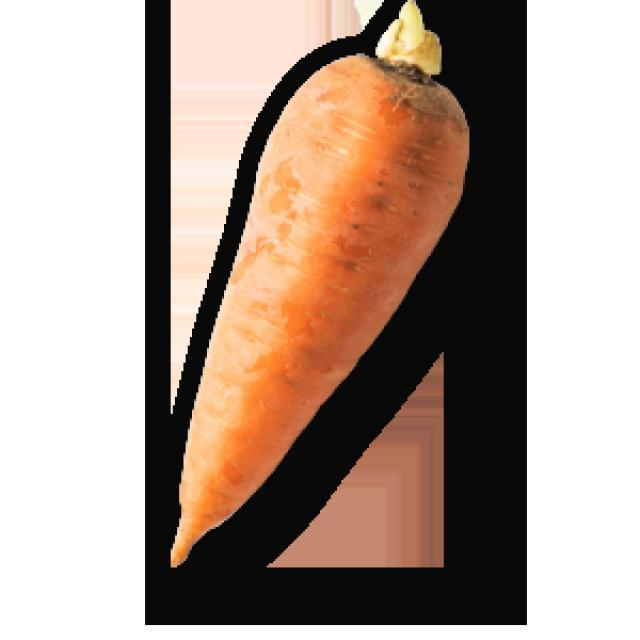Carrot: (173, 2, 469, 580)
